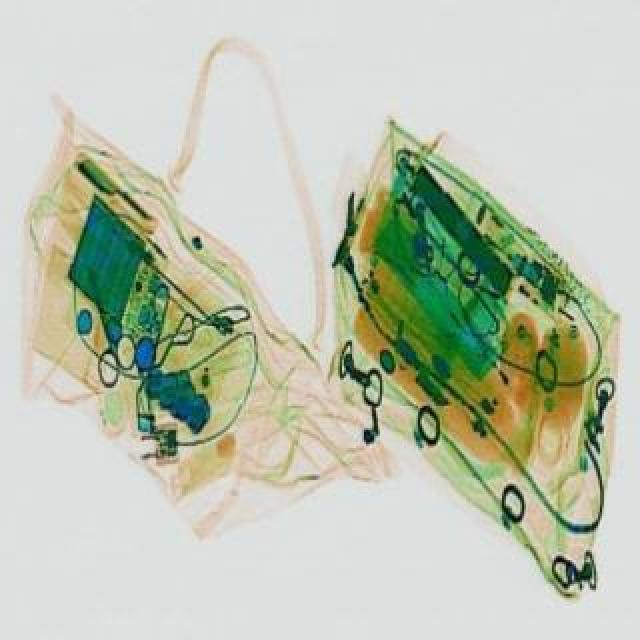pliers: (68, 268, 154, 396)
